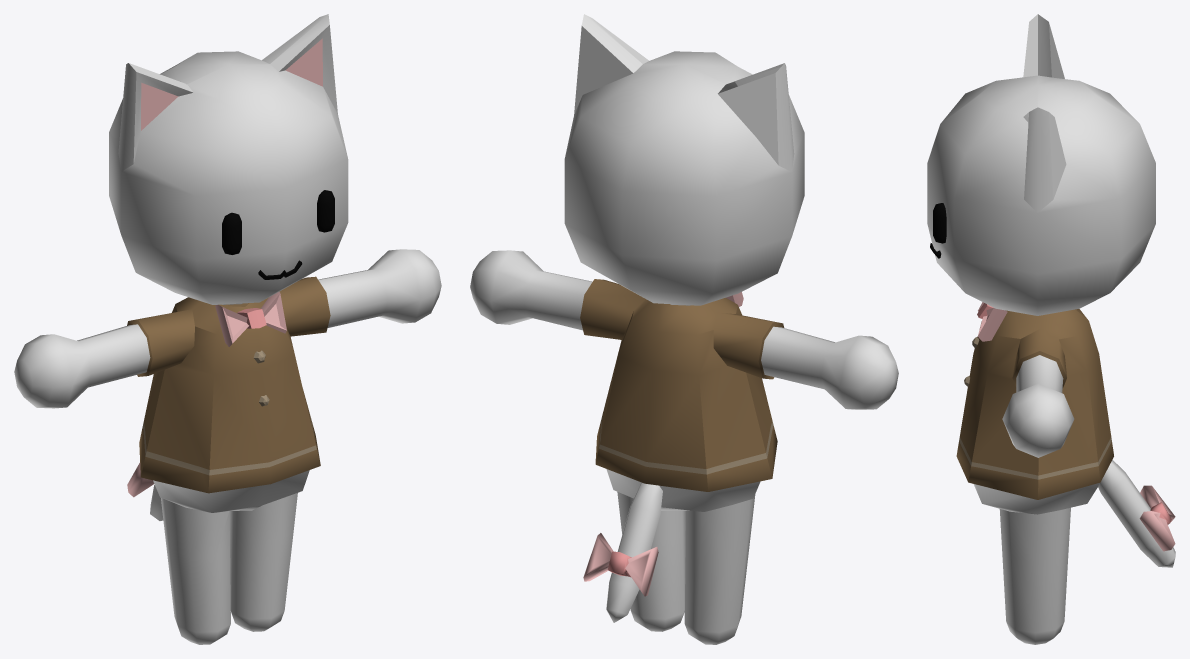
The picture shows the model from 3 angles, left to right: view 1: azimuth 30°, elevation 25°; view 2: azimuth 150°, elevation 25°; view 3: azimuth 270°, elevation 25°; orthographic projection. The views are drawn at different scales.
Visible parts, largest first — view 1: body, head, tail; view 2: body, head, tail; view 3: head, body, tail.
Part boxes in pixels (bbox=[...]): body: bbox=[14, 249, 441, 644]; head: bbox=[109, 14, 348, 304]; tail: bbox=[127, 463, 163, 520]; body: bbox=[470, 250, 898, 644]; head: bbox=[564, 14, 804, 305]; tail: bbox=[583, 482, 662, 622]; head: bbox=[927, 14, 1155, 315]; body: bbox=[956, 302, 1113, 644]; tail: bbox=[1098, 460, 1175, 567].
Bounding box in the file's own units: 1.59 × 2.16 × 0.8542.
